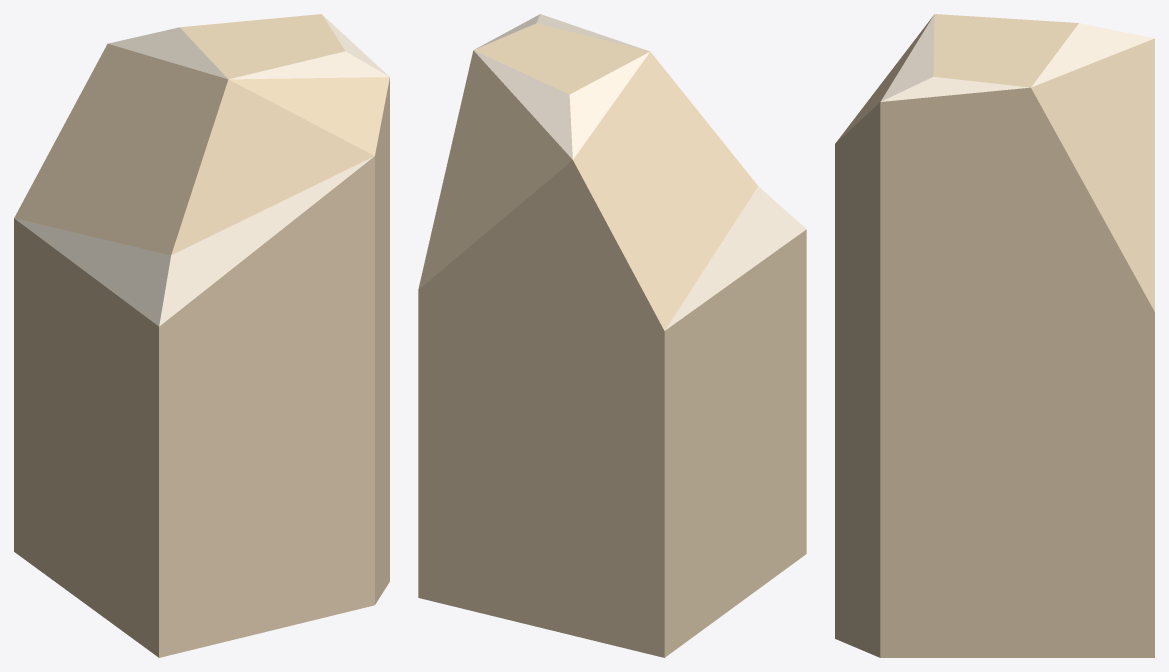
Rendered from desert_rock_4.fbx.
3 views of the same model, side by side, from view 1: azimuth 30°, elevation 25°; view 2: azimuth 150°, elevation 25°; view 3: azimuth 270°, elevation 25° (orthographic). The views are drawn at different scales.
Parts seen in each view (by area): view 1: desert_rock_4; view 2: desert_rock_4; view 3: desert_rock_4.
Part boxes in pixels (box(x1,y1,x2,y2)): desert_rock_4: box(14, 14, 389, 657); desert_rock_4: box(418, 14, 806, 657); desert_rock_4: box(835, 14, 1154, 657).
Size of the model in its own units: 63.83 by 126 by 63.83.
